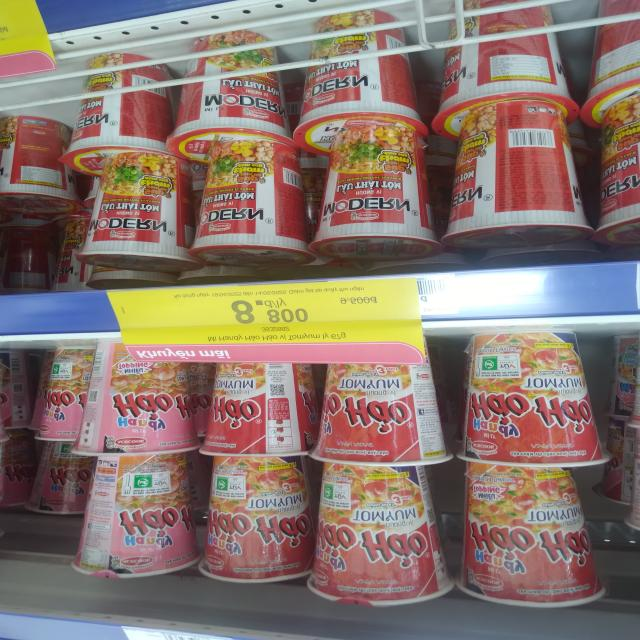mi hao hao: (48, 438, 236, 588), (69, 336, 232, 464)
